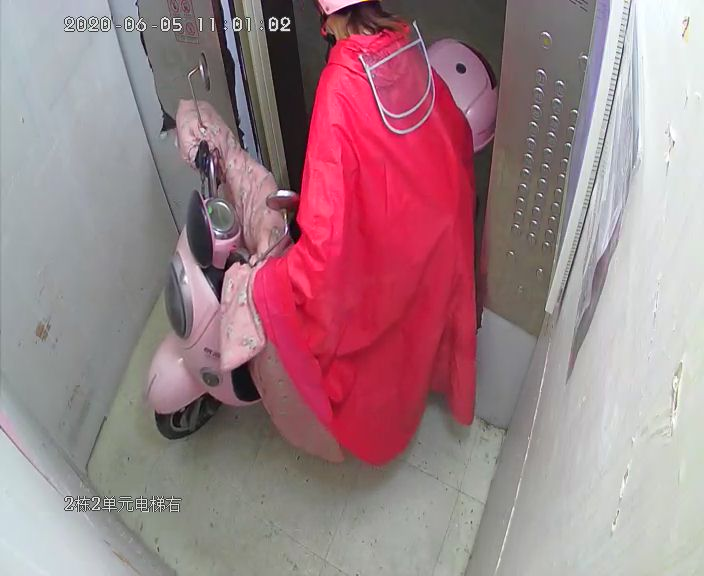Electric-bicycle: (142, 35, 501, 461)
